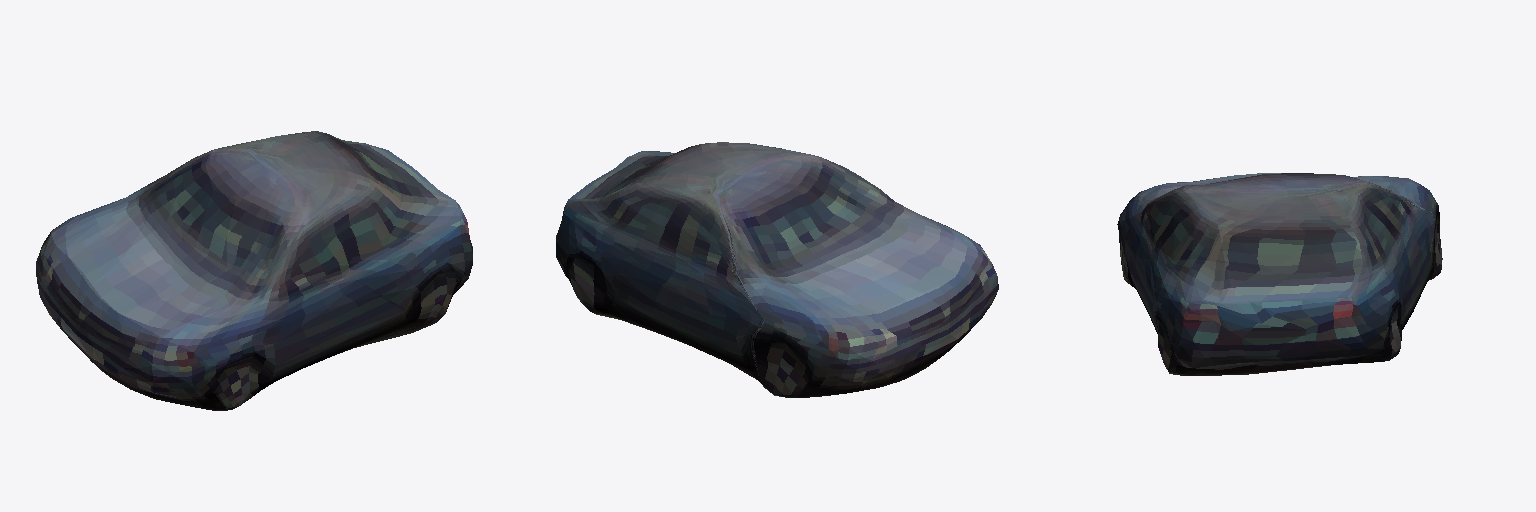
The picture shows the model from 3 angles: view 1: azimuth 30°, elevation 25°; view 2: azimuth 150°, elevation 25°; view 3: azimuth 270°, elevation 25°; orthographic projection.
Size of the model in its own units: 1 by 0.4248 by 0.7824.
Materials: 1 (1 with a texture image).